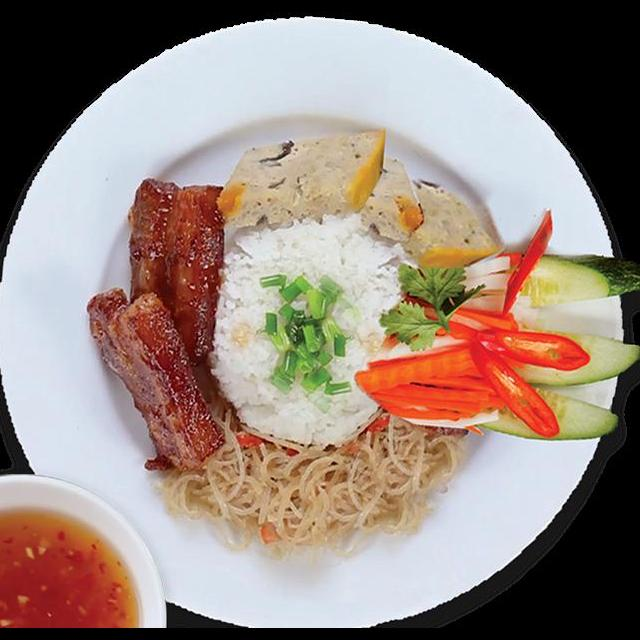bi: (156, 403, 470, 562)
cha: (212, 123, 388, 233), (354, 151, 504, 270)
com: (202, 210, 424, 448)
com suon bi cha: (2, 52, 640, 543)
dua chua: (351, 248, 524, 441)
suon: (84, 284, 230, 475), (119, 173, 232, 410)
